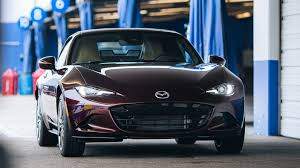car: (31, 23, 249, 158)
